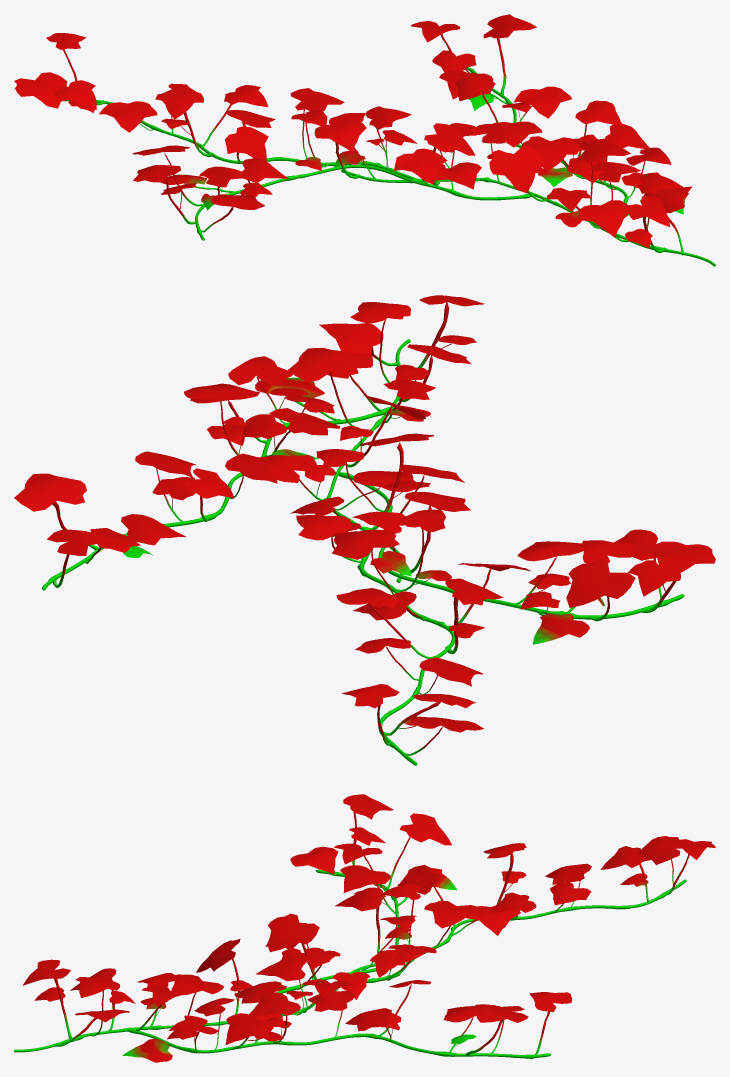
The model's file is Var2_LOD0.fbx.
3 views of the same model, one above another, from view 1: azimuth 30°, elevation 25°; view 2: azimuth 150°, elevation 25°; view 3: azimuth 270°, elevation 25° (orthographic). The views are drawn at different scales.
Visible parts, largest first — view 1: _6gbq_Var2_LOD0; view 2: _6gbq_Var2_LOD0; view 3: _6gbq_Var2_LOD0.
Part boxes in pixels (<box>): _6gbq_Var2_LOD0: <box>14,14,715,266</box>; _6gbq_Var2_LOD0: <box>14,295,715,765</box>; _6gbq_Var2_LOD0: <box>14,794,715,1062</box>.
Bounding box in the file's own units: 85.17 × 11.63 × 111.
